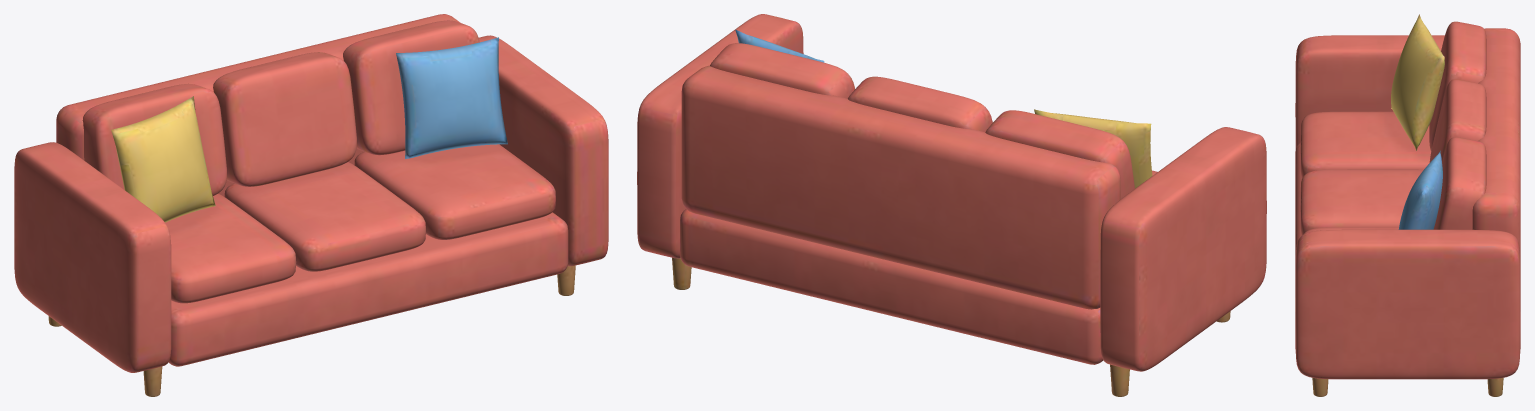
The model's file is sofa.glb.
3 renders of one model, left to right at view 1: azimuth 30°, elevation 25°; view 2: azimuth 150°, elevation 25°; view 3: azimuth 270°, elevation 25°, orthographic. The views are drawn at different scales.
Visible parts, largest first — view 1: sofa_body; view 2: sofa_body; view 3: sofa_body.
Boxes of the visible parts, x1,y1,x2,y2 form: sofa_body: (14, 14, 608, 396); sofa_body: (637, 14, 1266, 396); sofa_body: (1295, 14, 1520, 396).
Bounding box in the file's own units: 2.02 × 0.8944 × 0.9.
1 material, 1 textured.
